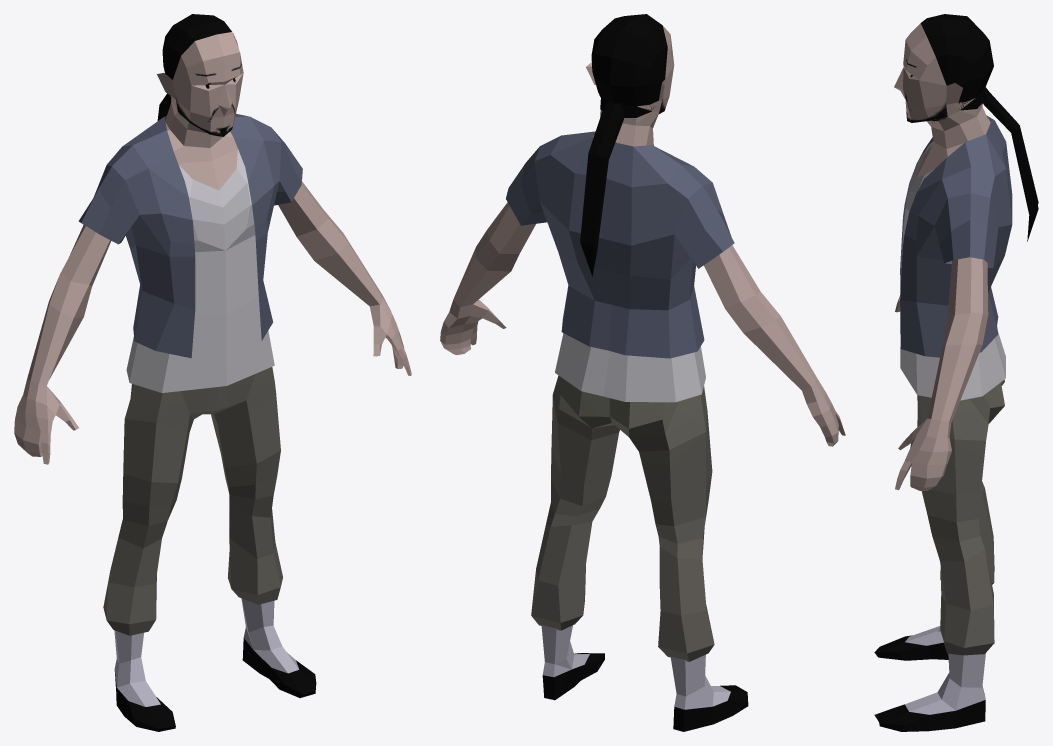
The model's file is human.fbx.
3 views of the same model, side by side, from view 1: azimuth 30°, elevation 25°; view 2: azimuth 150°, elevation 25°; view 3: azimuth 270°, elevation 25° (orthographic). The views are drawn at different scales.
Parts seen in each view (by area): view 1: male, 庫子, vest, vest2, hair; view 2: vest, 庫子, male, hair, vest2; view 3: male, vest, 庫子, hair, vest2.
Part boxes in pixels (x1,y1,x2,y2): male: [14, 32, 411, 731]; 庫子: [103, 367, 282, 635]; vest: [78, 113, 302, 358]; vest2: [126, 149, 274, 392]; hair: [157, 14, 234, 120]; vest: [506, 131, 734, 358]; 庫子: [531, 375, 714, 661]; male: [440, 26, 845, 731]; hair: [580, 14, 667, 276]; vest2: [555, 333, 705, 402]; male: [874, 23, 989, 731]; vest: [900, 115, 1012, 357]; 庫子: [917, 379, 1004, 655]; hair: [920, 14, 1038, 241]; vest2: [900, 118, 1005, 400].
Bounding box in the file's own units: 196 × 326 × 72.38.
Materials: 2 (1 with a texture image).
